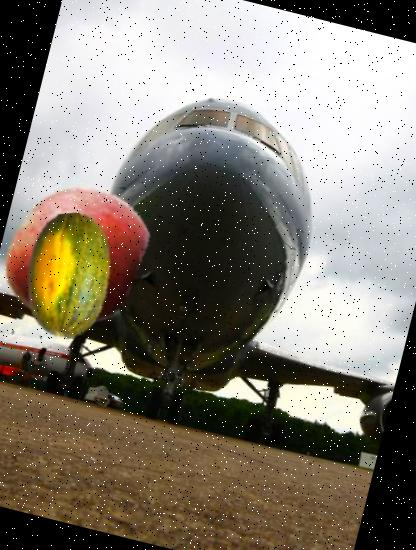Apple: (0, 167, 167, 344)
Melon: (0, 200, 146, 353)
